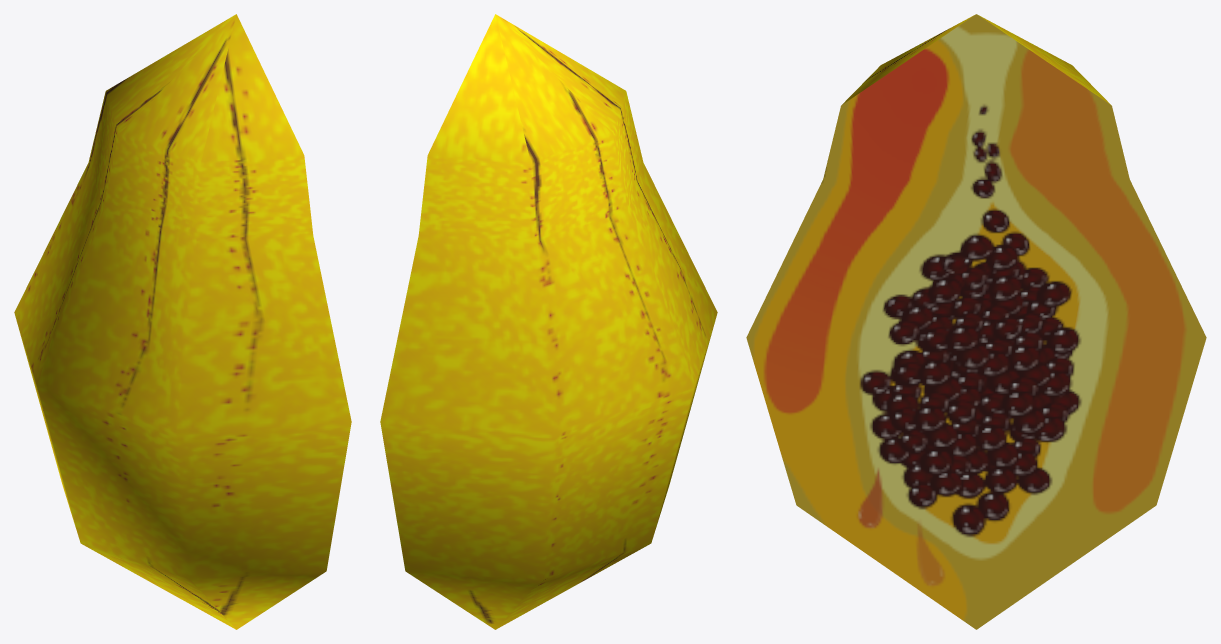
File: PapyaS.FBX
3 renders of one model, left to right at view 1: azimuth 30°, elevation 25°; view 2: azimuth 150°, elevation 25°; view 3: azimuth 270°, elevation 25°, orthographic.
Parts seen in each view (by area): view 1: Papaya Slice; view 2: Papaya Slice; view 3: Papaya Slice.
Boxes of the visible parts, x1,y1,x2,y2 form: Papaya Slice: [14, 14, 351, 629]; Papaya Slice: [380, 14, 717, 629]; Papaya Slice: [746, 14, 1206, 629].
Size of the model in its own units: 5.68 by 16.78 by 11.36.
